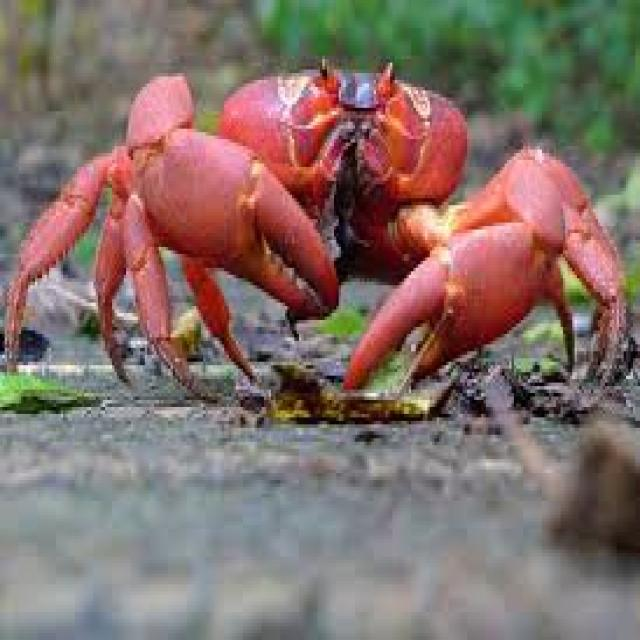crab: (148, 52, 532, 326)
